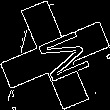M_SW: (23, 24, 87, 86)
